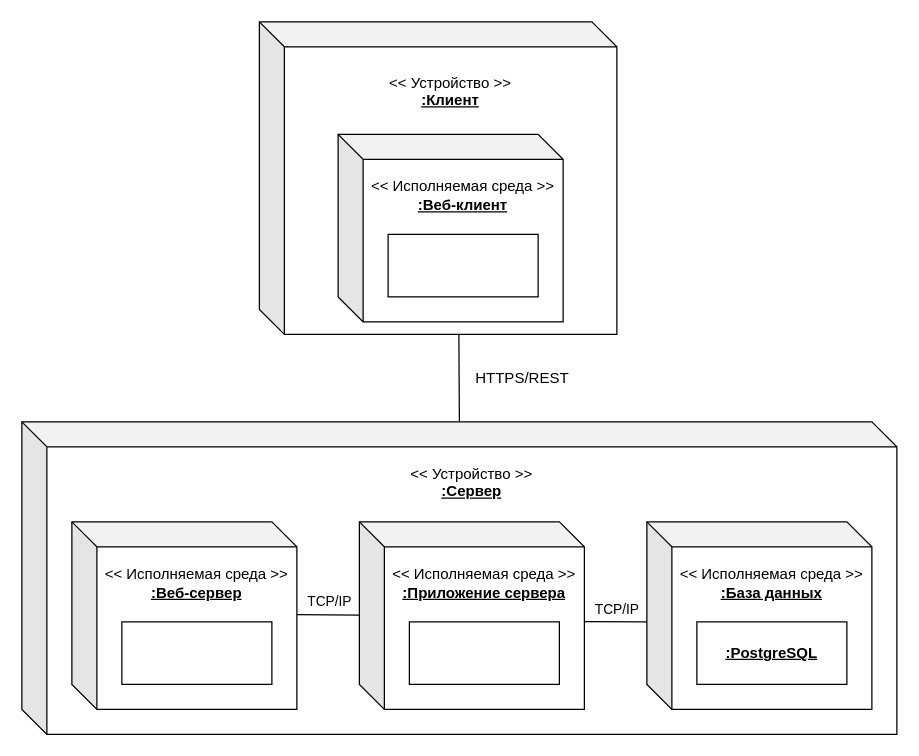
Some shapes in this 919 by 756 pixel diagram are drawn without their labels. The shapes that lost their labels are listed below. From the top down, each one's centre as x and y in pixels, then its label:
At (x=462, y=265): ":Веб-браузер".
At (x=196, y=652): ":Nginx".
At (x=483, y=652): ":Cukierka".
